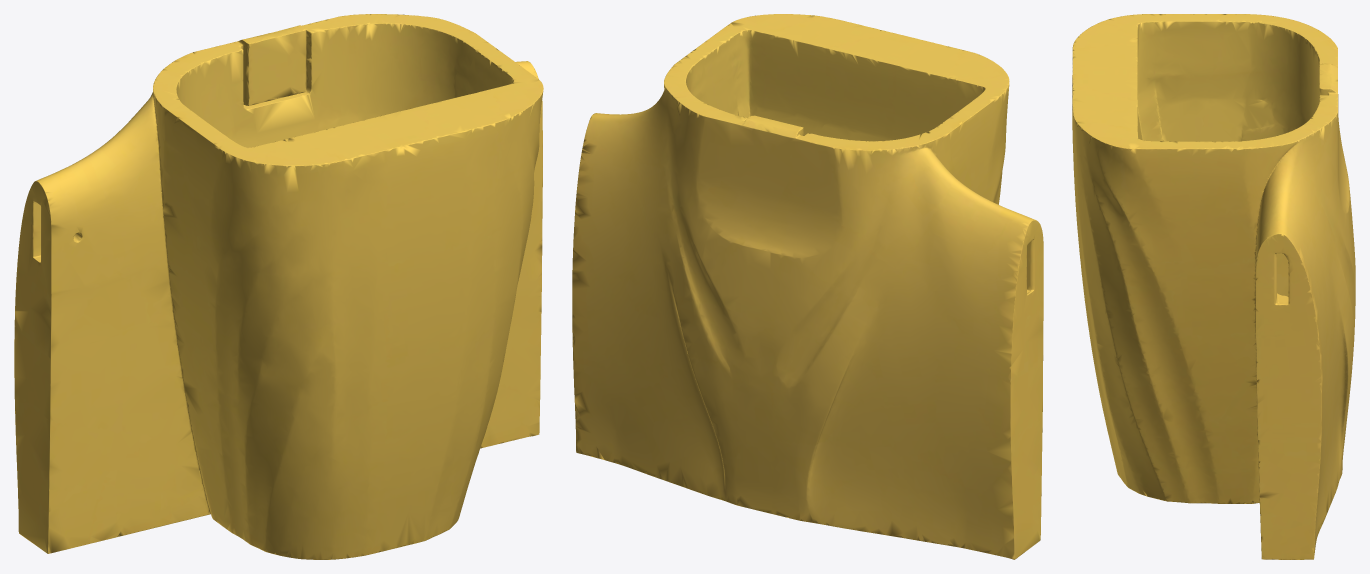
The model's file is part_fuse_body.min.glb.
The picture shows the model from 3 angles, left to right: view 1: azimuth 30°, elevation 25°; view 2: azimuth 150°, elevation 25°; view 3: azimuth 270°, elevation 25°; orthographic projection. The views are drawn at different scales.
Size of the model in its own units: 1.9 by 1.59 by 1.06.
1 material, 1 textured.
